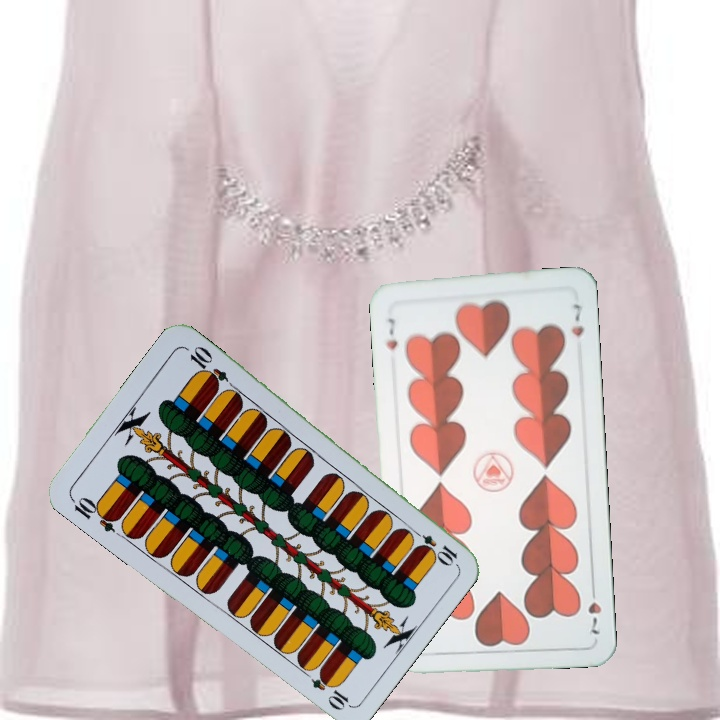E10: (67, 492, 122, 535), (406, 524, 460, 567)
H7: (584, 581, 604, 637), (382, 314, 400, 352)
